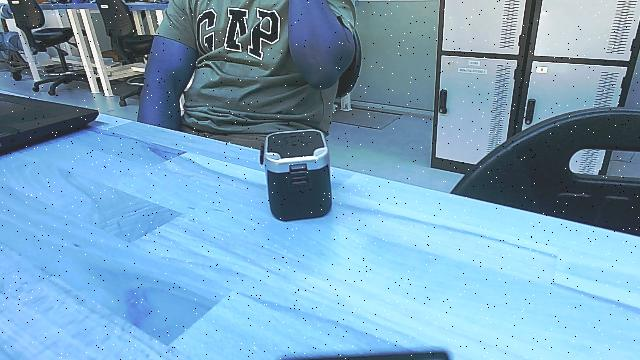adapter: (257, 128, 339, 224)
